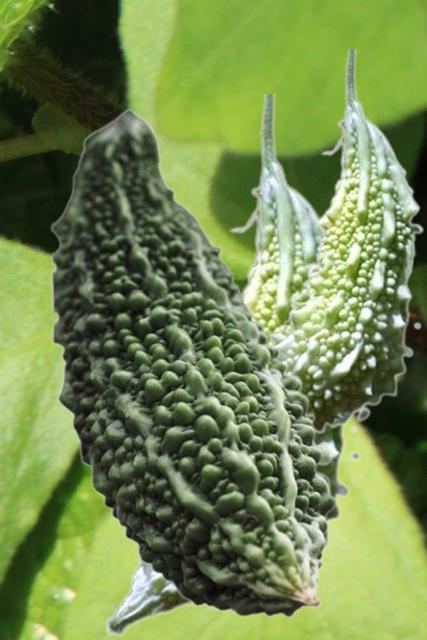ampalaya: (50, 107, 336, 617), (104, 94, 362, 636), (267, 49, 423, 434)
